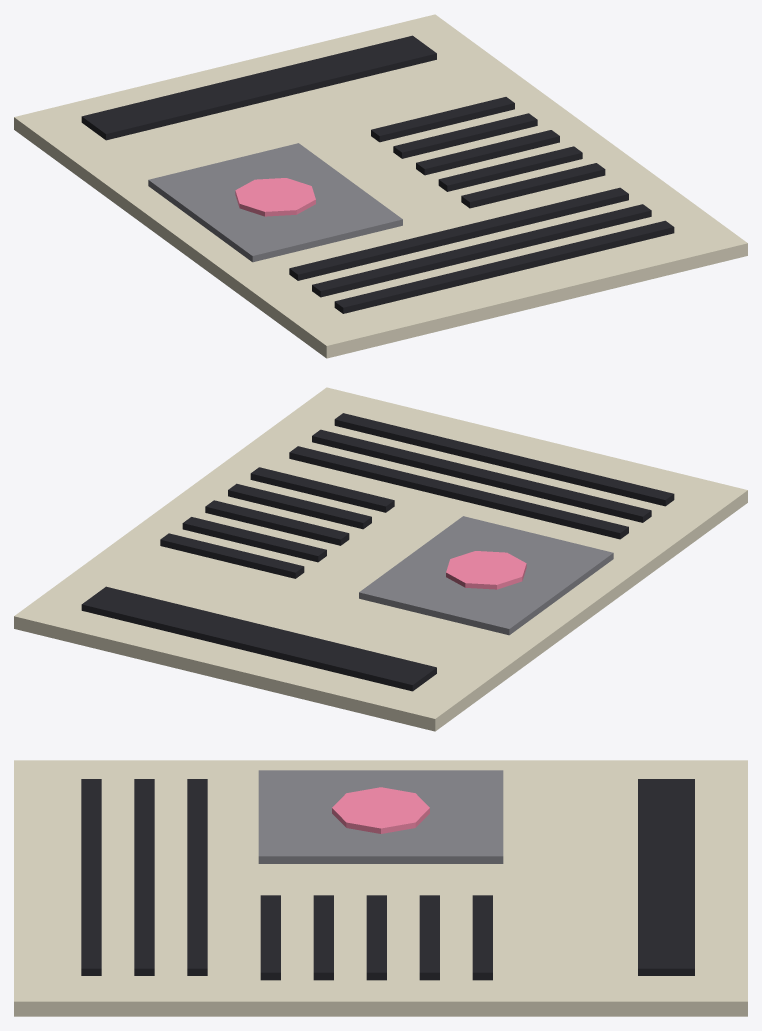
File: news_clipping.glb
3 views of the same model, one above another, from view 1: azimuth 30°, elevation 25°; view 2: azimuth 150°, elevation 25°; view 3: azimuth 270°, elevation 25° (orthographic). The views are drawn at different scales.
Parts seen in each view (by area): view 1: paper_newsprint, ink_news_ink (×9), photo_news_photo, photo_porcelain_pink; view 2: paper_newsprint, ink_news_ink (×9), photo_news_photo, photo_porcelain_pink; view 3: paper_newsprint, ink_news_ink (×9), photo_news_photo, photo_porcelain_pink.
Part boxes in pixels (bbox=[...]): paper_newsprint: bbox=[14, 14, 747, 358]; ink_news_ink (×9): bbox=[81, 35, 674, 313]; photo_news_photo: bbox=[148, 143, 402, 262]; photo_porcelain_pink: bbox=[235, 178, 315, 216]; paper_newsprint: bbox=[14, 387, 747, 731]; ink_news_ink (×9): bbox=[81, 413, 674, 691]; photo_news_photo: bbox=[359, 516, 613, 635]; photo_porcelain_pink: bbox=[446, 551, 526, 589]; paper_newsprint: bbox=[14, 760, 747, 1016]; ink_news_ink (×9): bbox=[81, 779, 694, 980]; photo_news_photo: bbox=[258, 770, 503, 863]; photo_porcelain_pink: bbox=[332, 787, 429, 833].
Size of the model in its own units: 0.14 by 0.0075 by 0.18.
